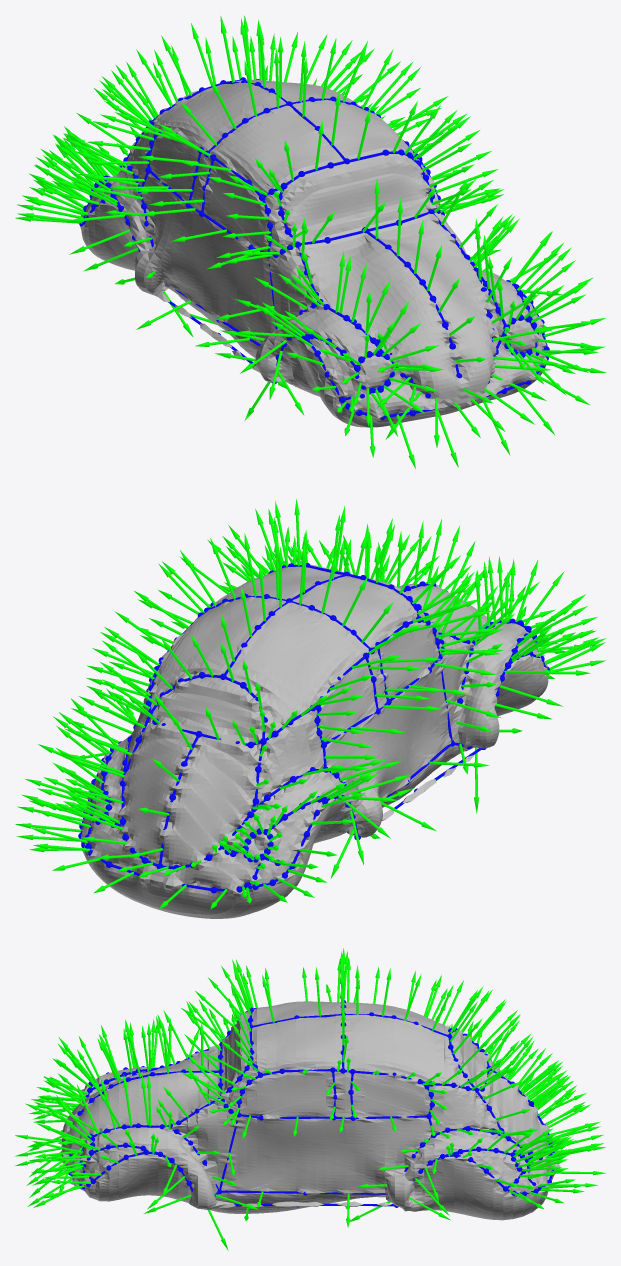
Rendered from flowsurf_beetle.gltf.
3 renders of one model, top to bottom at view 1: azimuth 30°, elevation 25°; view 2: azimuth 150°, elevation 25°; view 3: azimuth 270°, elevation 25°, orthographic. The views are drawn at different scales.
Bounding box in the file's own units: 0.5559 × 0.4813 × 1.07.
